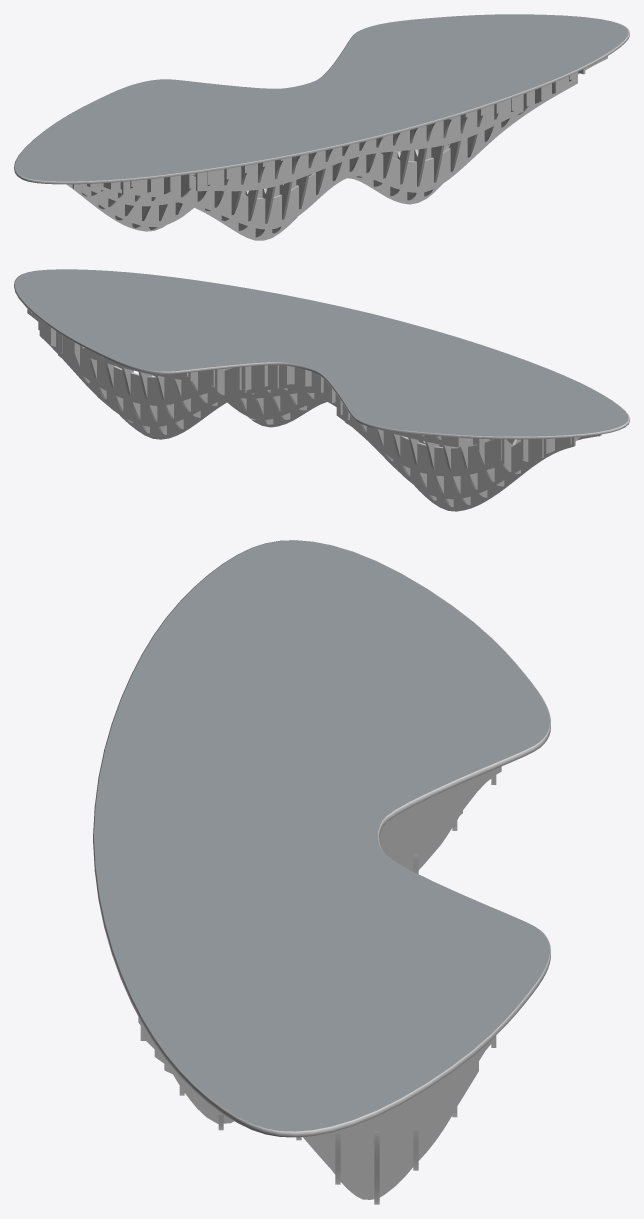
File: SM_TableD.fbx
The picture shows the model from 3 angles, top to bottom: view 1: azimuth 30°, elevation 25°; view 2: azimuth 150°, elevation 25°; view 3: azimuth 270°, elevation 25°; orthographic projection. The views are drawn at different scales.
Visible parts, largest first — view 1: SM_TableD_LOD0; view 2: SM_TableD_LOD0; view 3: SM_TableD_LOD0.
Part boxes in pixels (left/top/right/bottom): SM_TableD_LOD0: left=14, top=14, right=629, bottom=240; SM_TableD_LOD0: left=14, top=269, right=629, bottom=511; SM_TableD_LOD0: left=93, top=540, right=550, bottom=1204.
Size of the model in its own units: 540 by 176 by 92.59.
